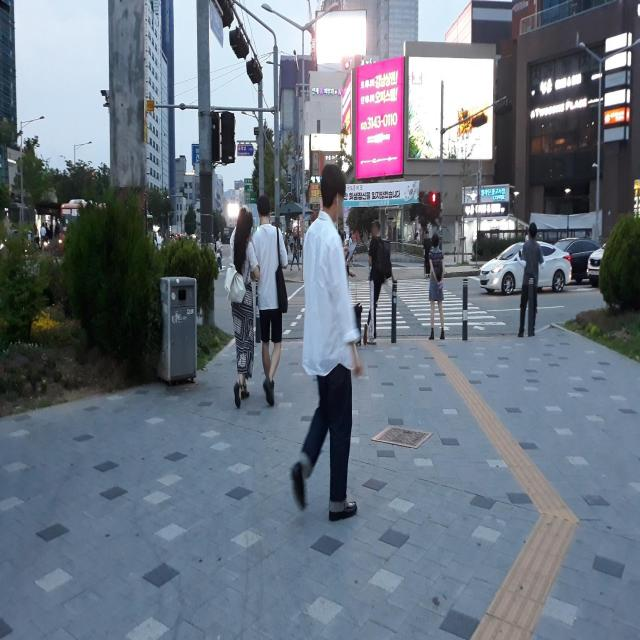빨간불: (429, 191, 438, 220)
횡단보도: (348, 277, 507, 332)
